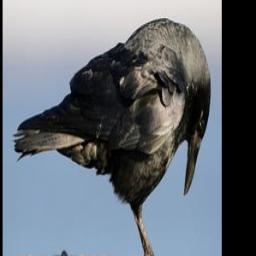Crow: (12, 16, 211, 256)
